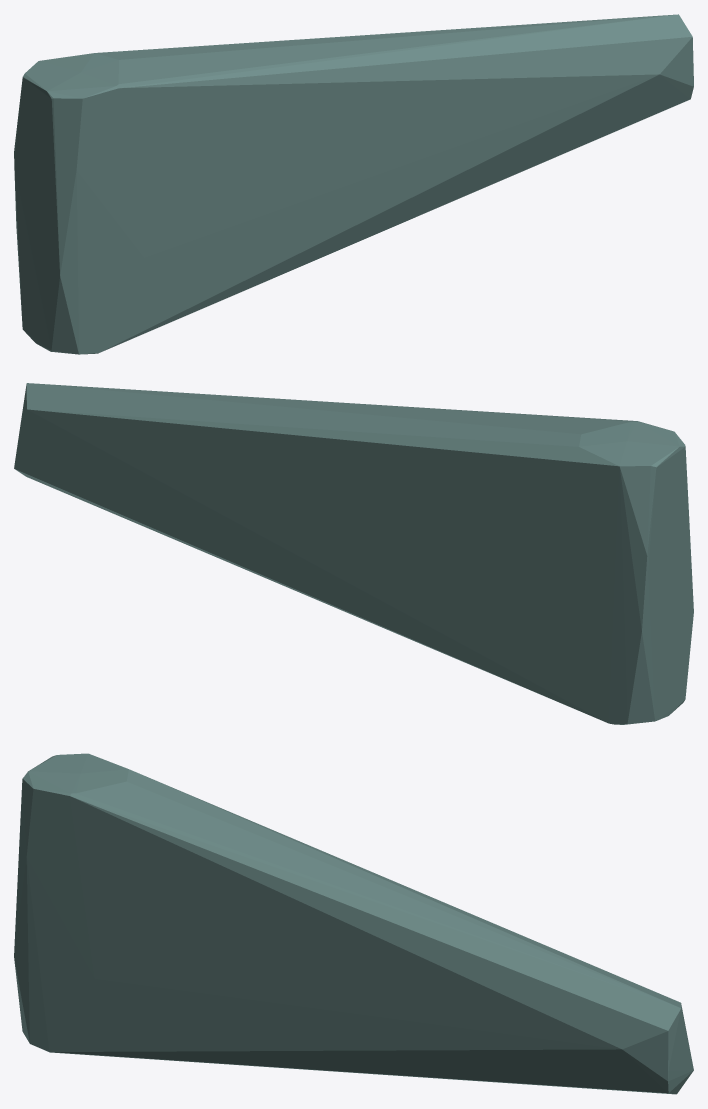
The model's file is handTool_hammer_crossPeen_b01.glb.
3 views of the same model, one above another, from view 1: azimuth 30°, elevation 25°; view 2: azimuth 150°, elevation 25°; view 3: azimuth 330°, elevation 25° (orthographic).
Visible parts, largest first — view 1: geometry_0; view 2: geometry_0; view 3: geometry_0.
Part boxes in pixels (bbox=[...]): geometry_0: bbox=[14, 14, 693, 354]; geometry_0: bbox=[14, 383, 693, 724]; geometry_0: bbox=[14, 753, 693, 1094].
Bounding box in the file's own units: 0.48 × 0.187 × 0.0644.
